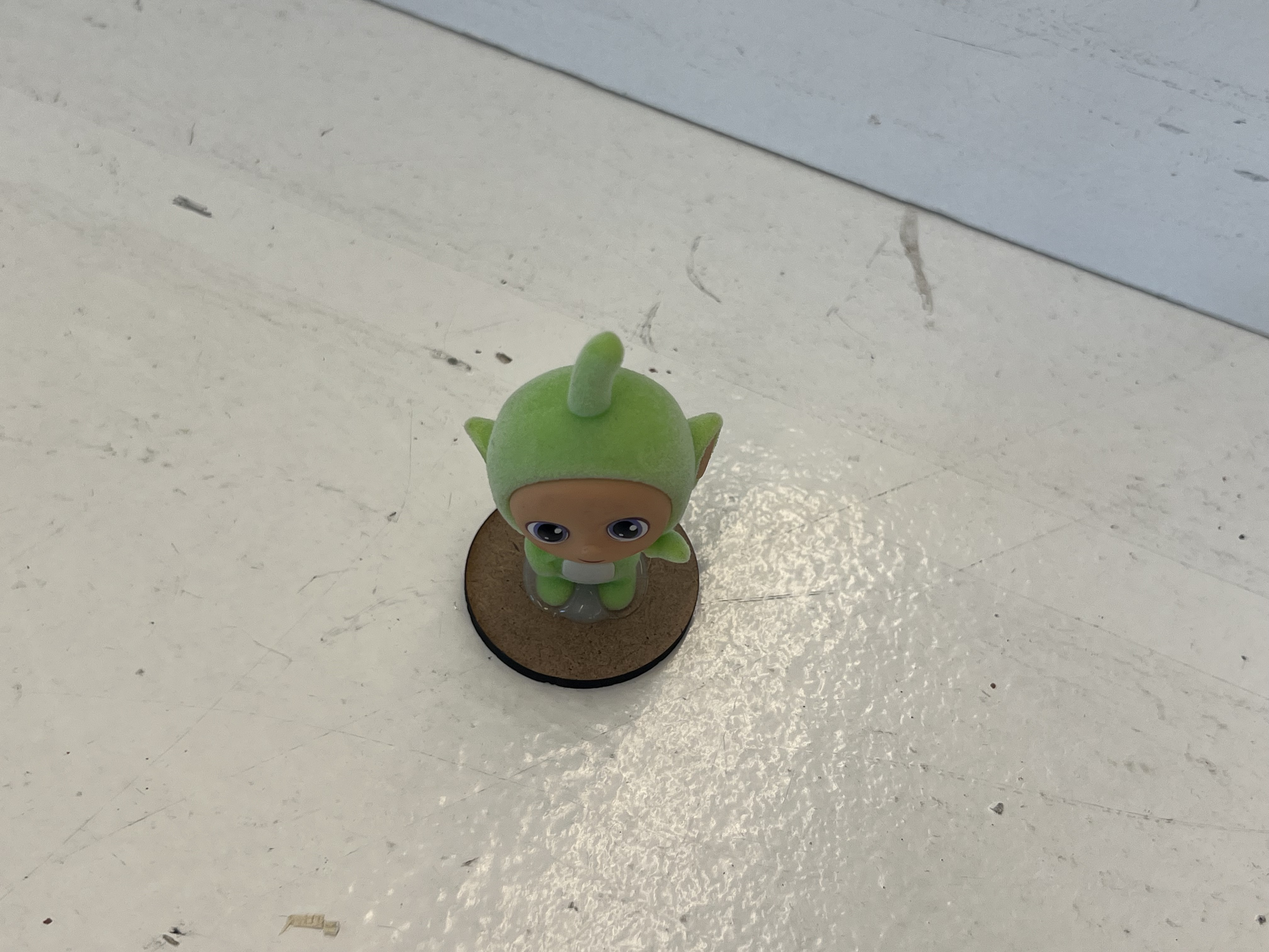teletubby: (465, 332, 722, 611)
